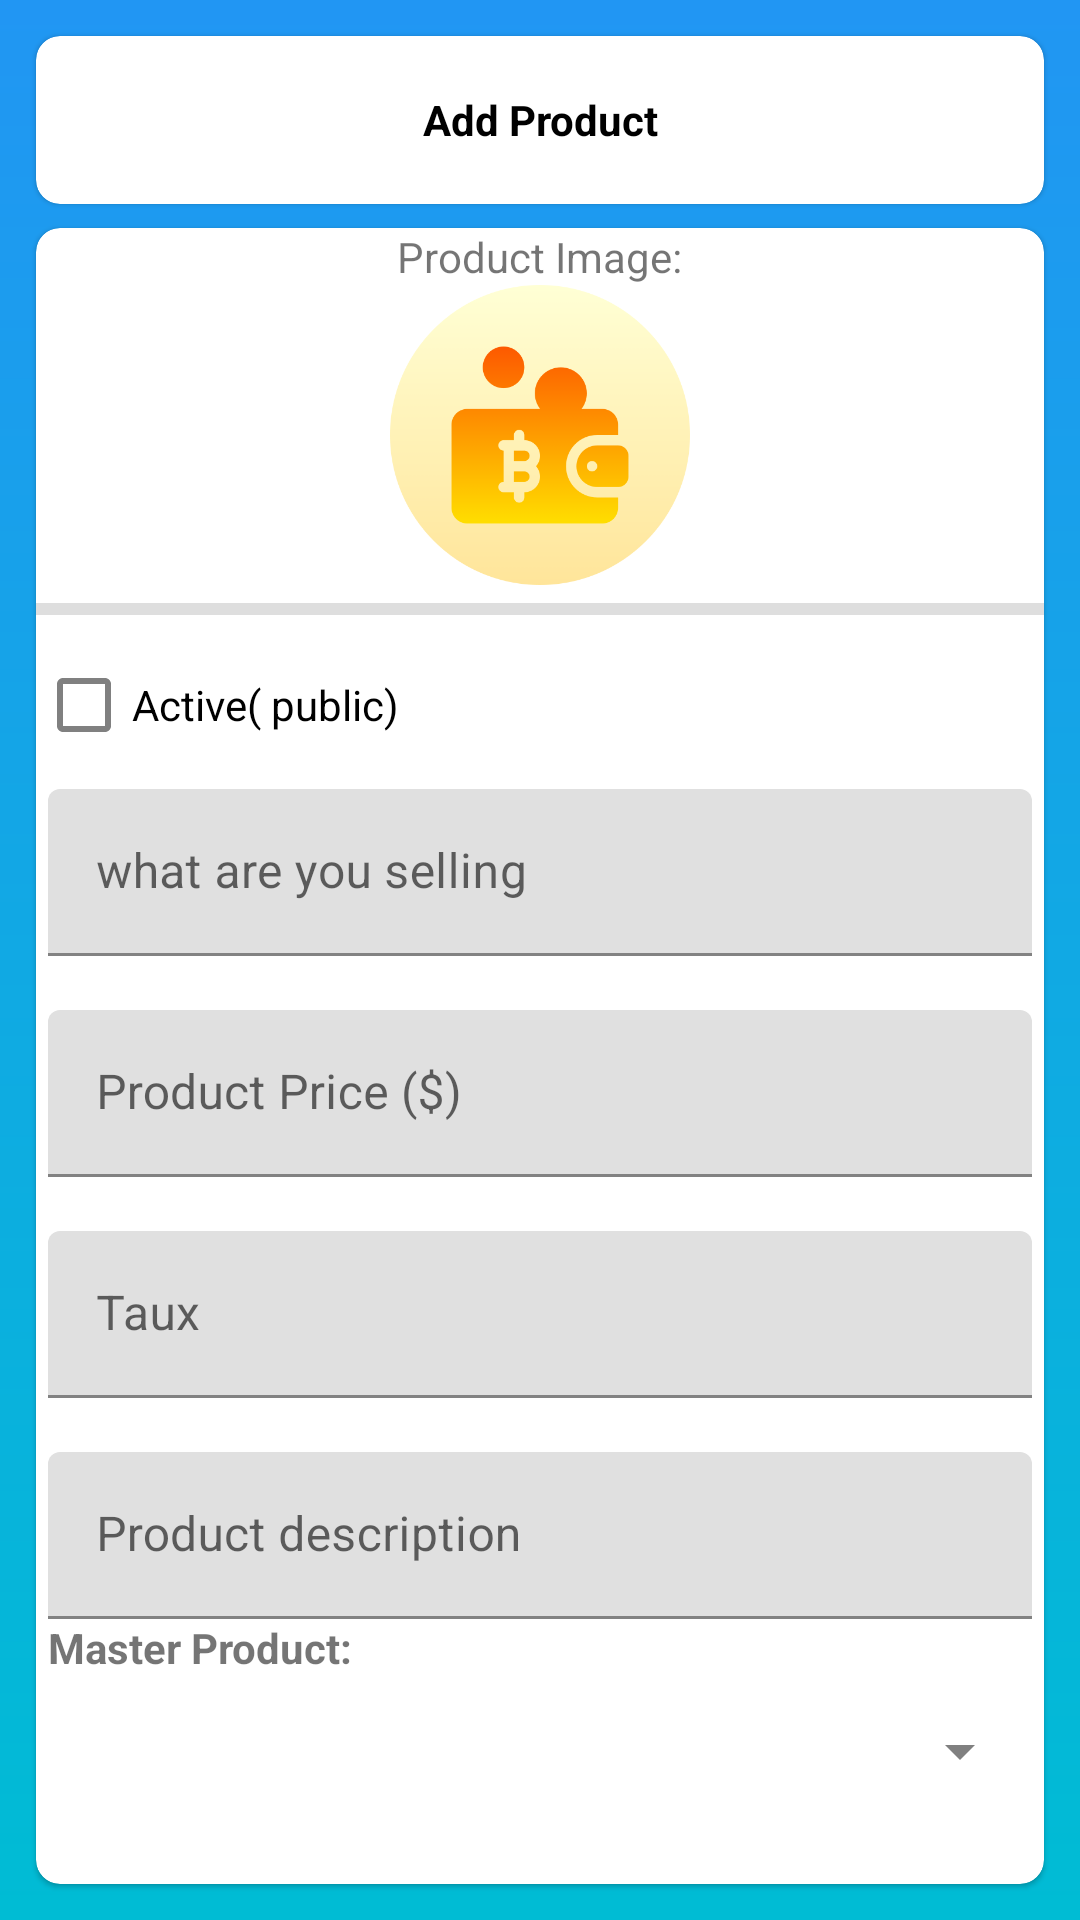

Screen size 1080 × 1920. Icon name, then its center in pixels as [x,y]:
wallet: [540,435]
